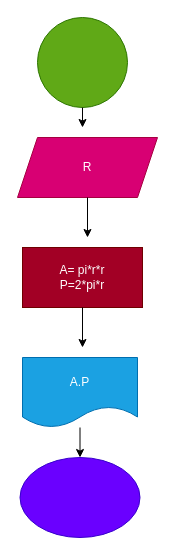
This 175x555 diagram has some shape labels left out. The shapes that lost their labels are listed below. From the top down, each one's box as (x1, y1, x2, y2) in pixels, then its label:
(36, 16, 128, 108): inicio
(19, 456, 140, 538): FIN
